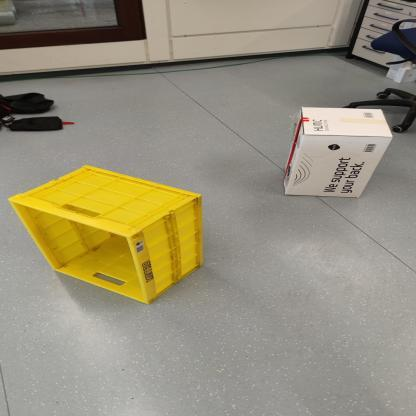-: (3, 155, 213, 335), (262, 103, 409, 225)
